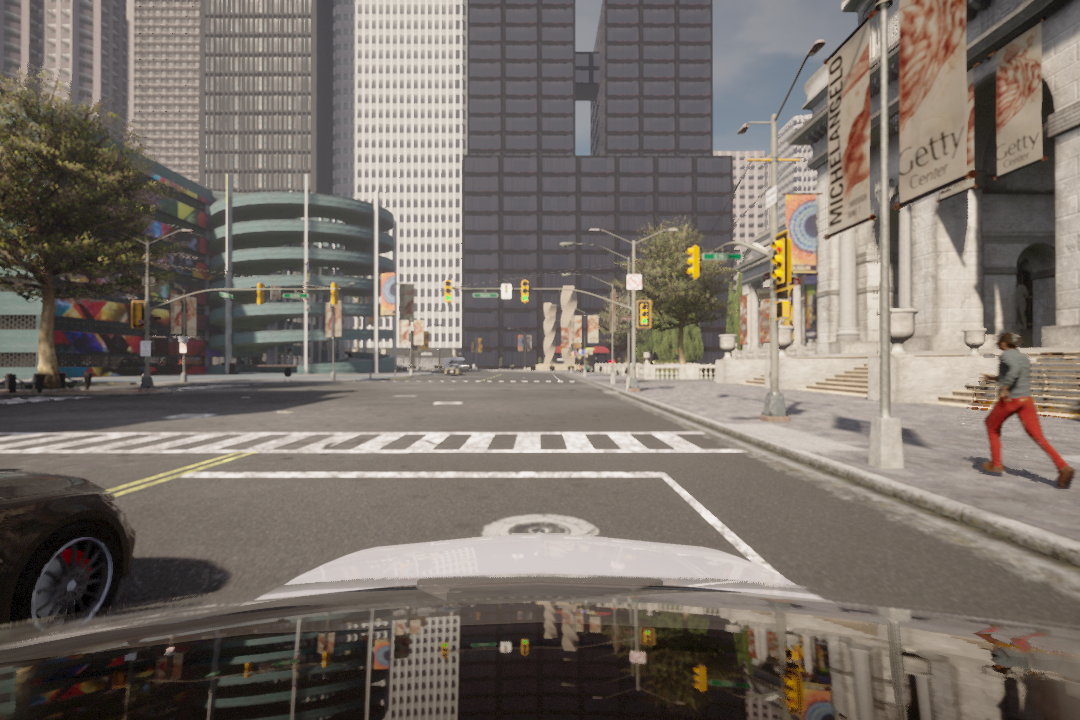TrafficLight: (771, 232, 787, 289), (684, 243, 705, 282), (635, 301, 653, 327), (441, 277, 453, 301), (519, 281, 529, 307)
TrafficSign: (627, 276, 644, 292)
walkside: (1, 430, 744, 462)
